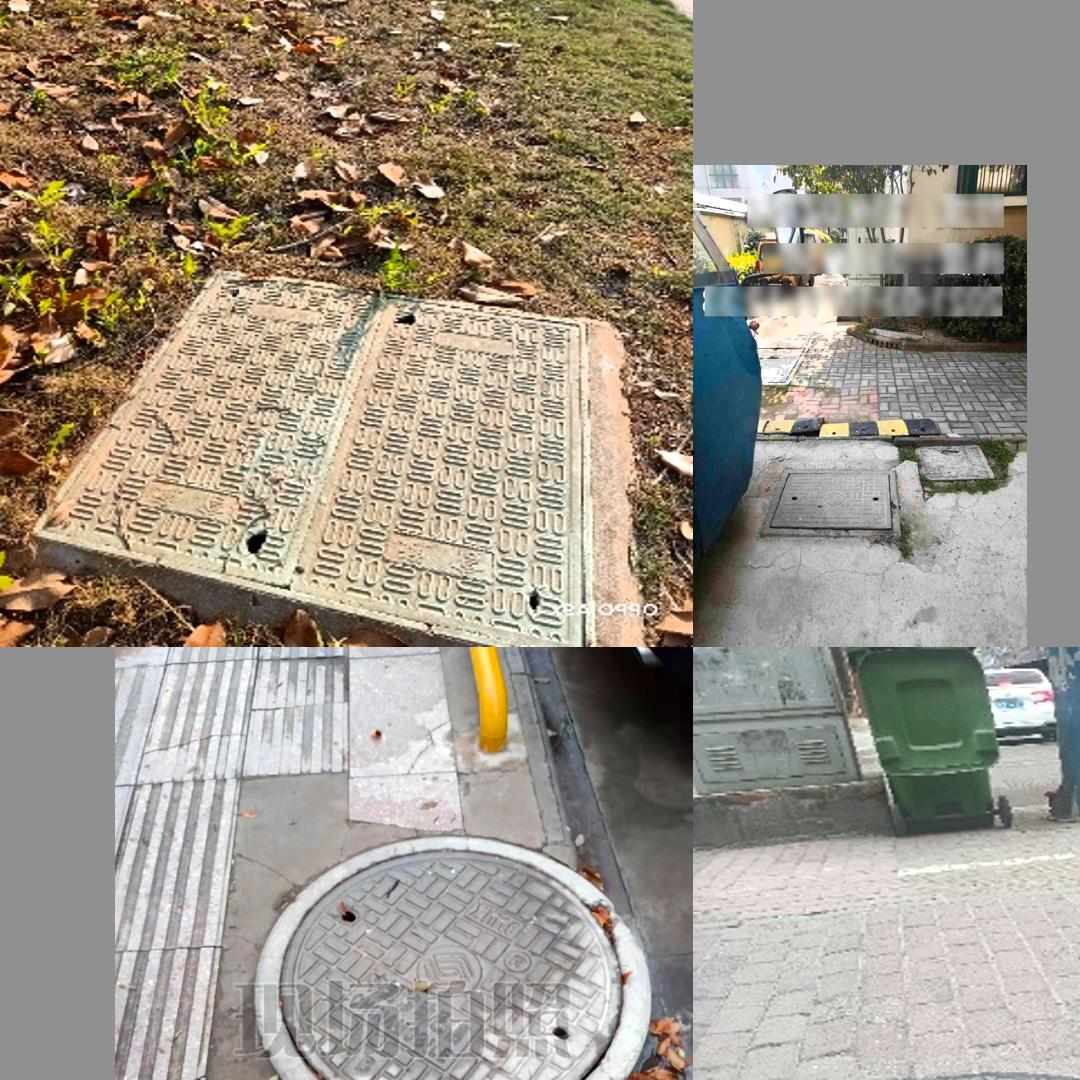good: (26, 265, 596, 647), (255, 834, 651, 1080), (760, 470, 904, 536), (693, 1070, 1080, 1080), (914, 443, 996, 481), (755, 335, 813, 385)
